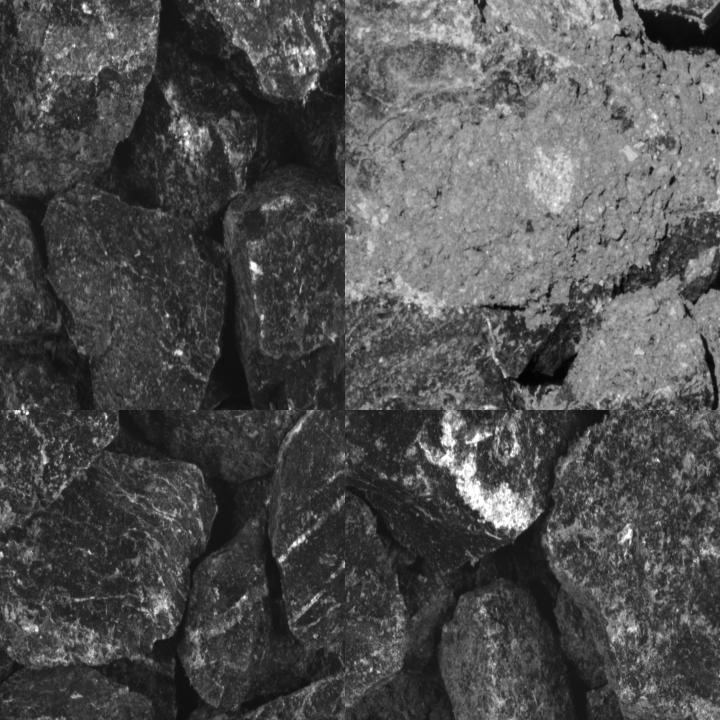stone: (543, 410, 719, 719), (0, 450, 218, 667), (39, 186, 230, 409), (345, 410, 596, 572), (0, 0, 160, 199), (222, 161, 344, 409), (176, 515, 316, 707), (123, 41, 262, 231), (135, 0, 344, 126), (438, 581, 575, 719), (345, 430, 406, 719), (569, 299, 718, 409), (130, 410, 344, 481), (0, 197, 60, 362), (0, 665, 183, 719), (179, 672, 344, 719), (82, 650, 178, 719), (0, 348, 89, 409), (555, 586, 607, 684), (586, 685, 657, 719), (430, 694, 458, 719)
